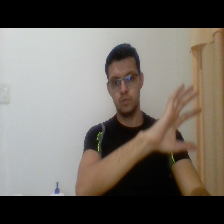left: (144, 80, 206, 158)
